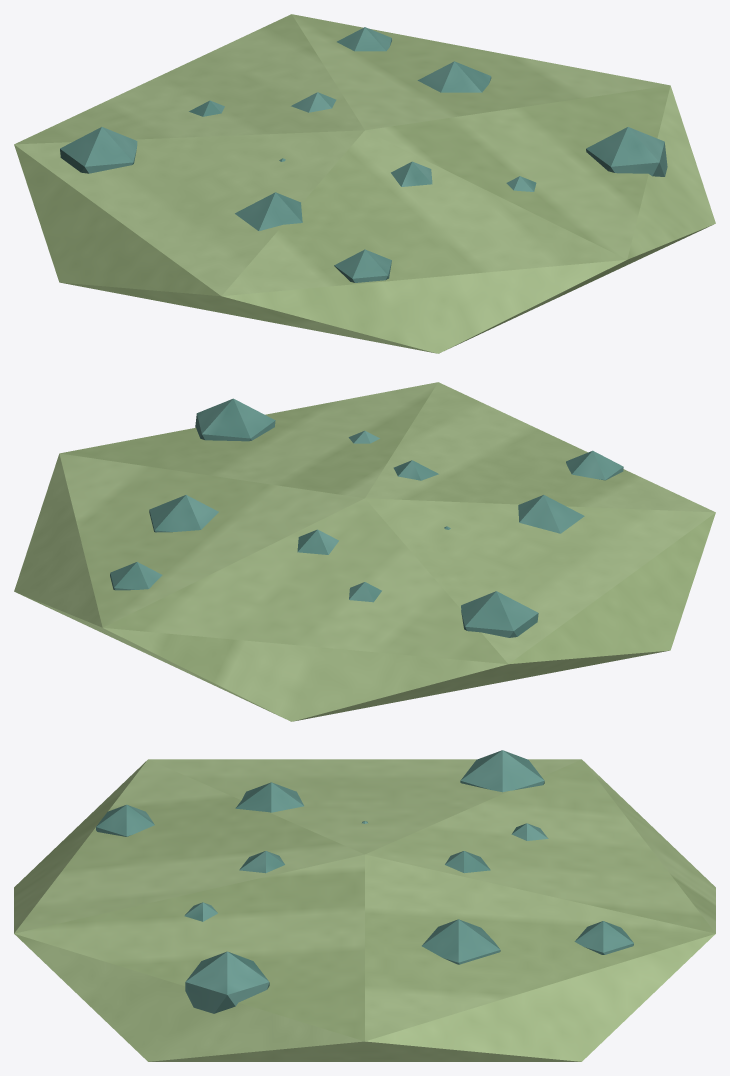
Rendered from sm_flora_starmoss.glb.
The picture shows the model from 3 angles, top to bottom: view 1: azimuth 30°, elevation 25°; view 2: azimuth 150°, elevation 25°; view 3: azimuth 270°, elevation 25°; orthographic projection. The views are drawn at different scales.
Parts seen in each view (by area): view 1: sm_flora_starmoss; view 2: sm_flora_starmoss; view 3: sm_flora_starmoss.
Boxes of the visible parts, left/top/right/bottom form: sm_flora_starmoss: left=14, top=14, right=715, bottom=353; sm_flora_starmoss: left=14, top=382, right=715, bottom=721; sm_flora_starmoss: left=14, top=750, right=715, bottom=1061.
Bounding box in the file's own units: 0.4472 × 0.0775 × 0.4253.
Materials: 1 (1 with a texture image).
